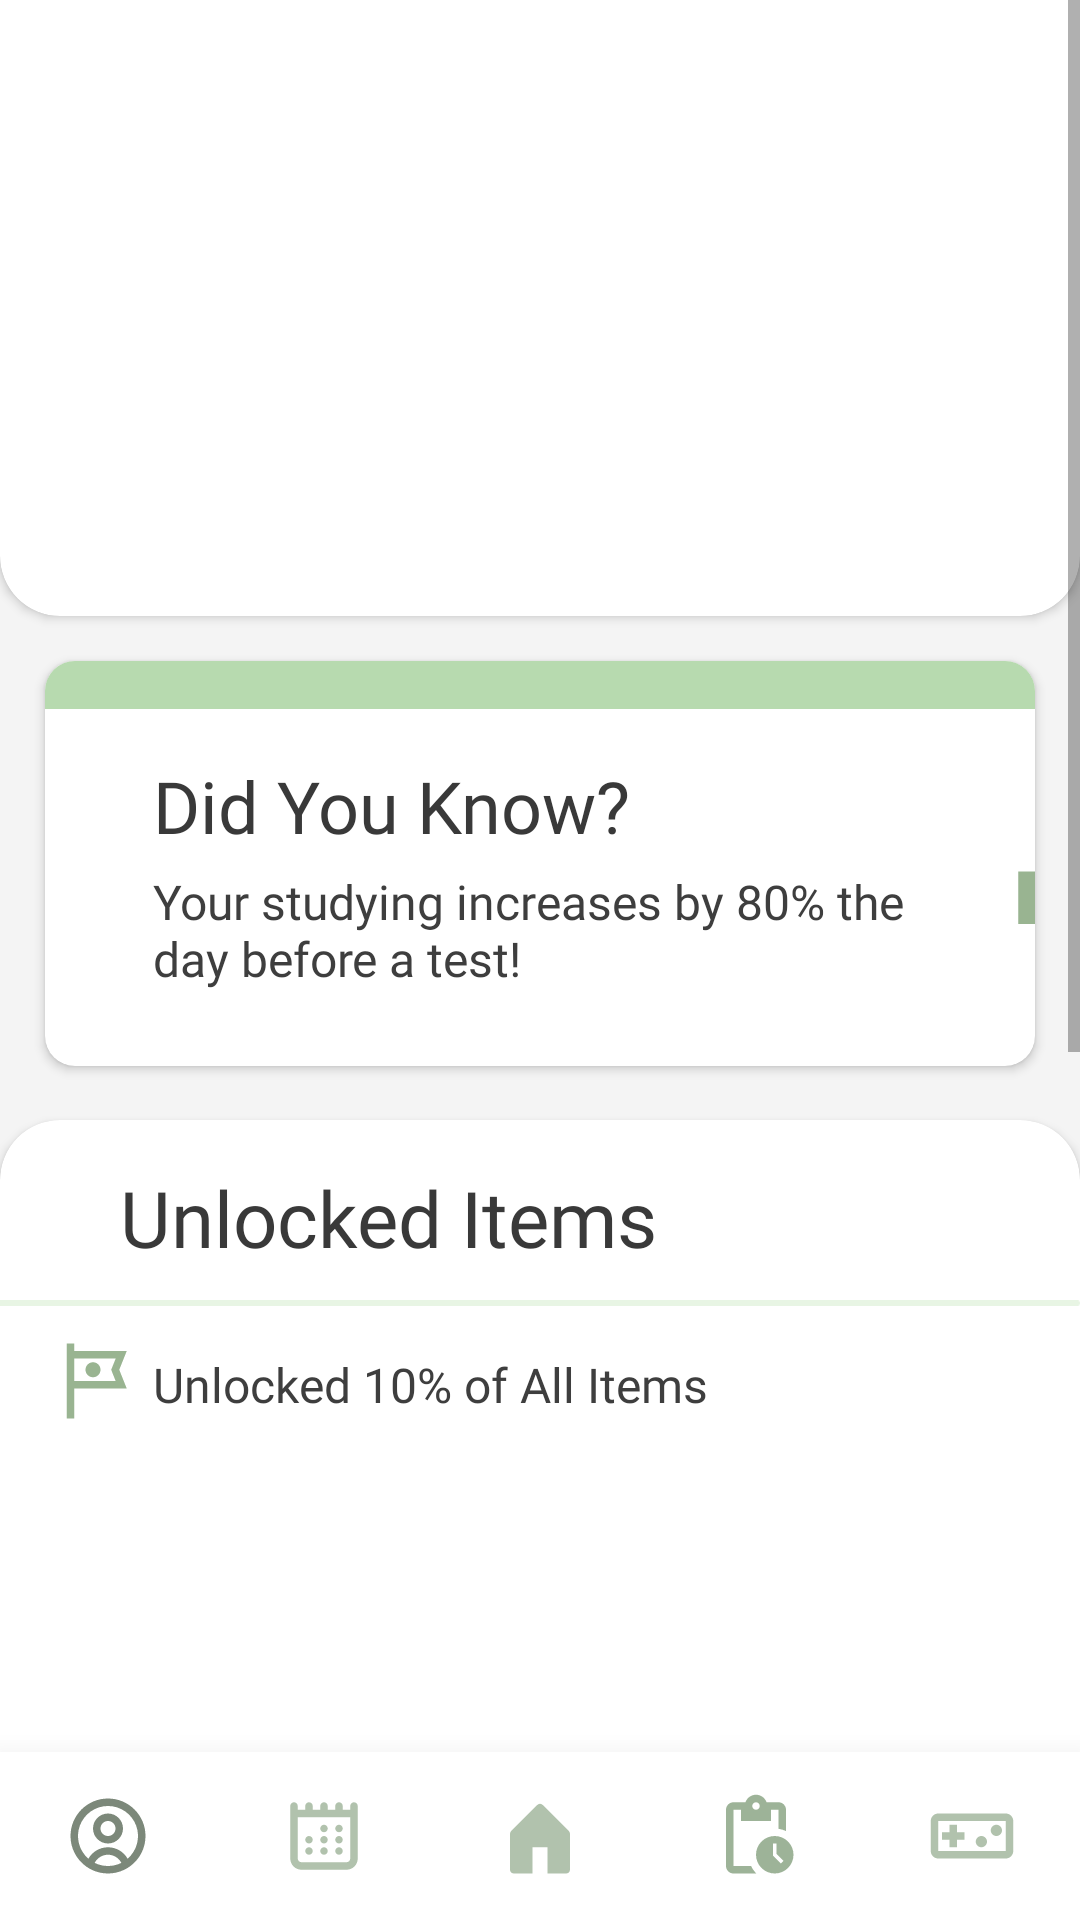

Icons on this 1080w x 1920h Android screen, each with the point to tap as (x=x, y=y):
flag: (x=96, y=1381)
